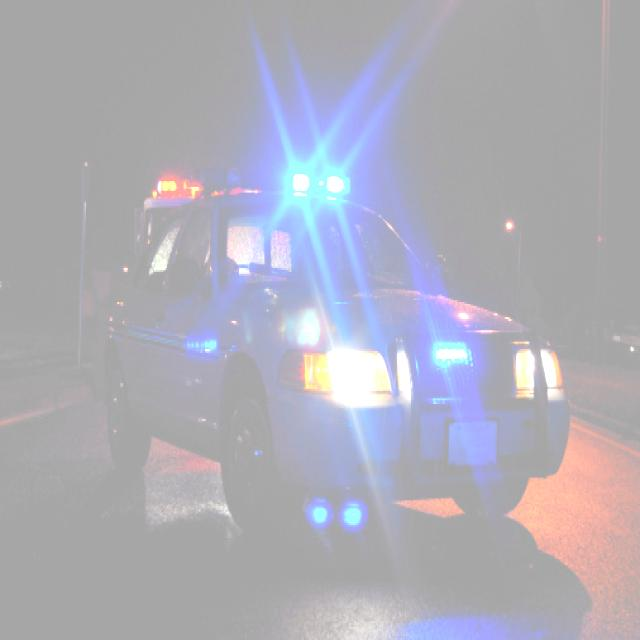Car: (102, 165, 571, 557)
